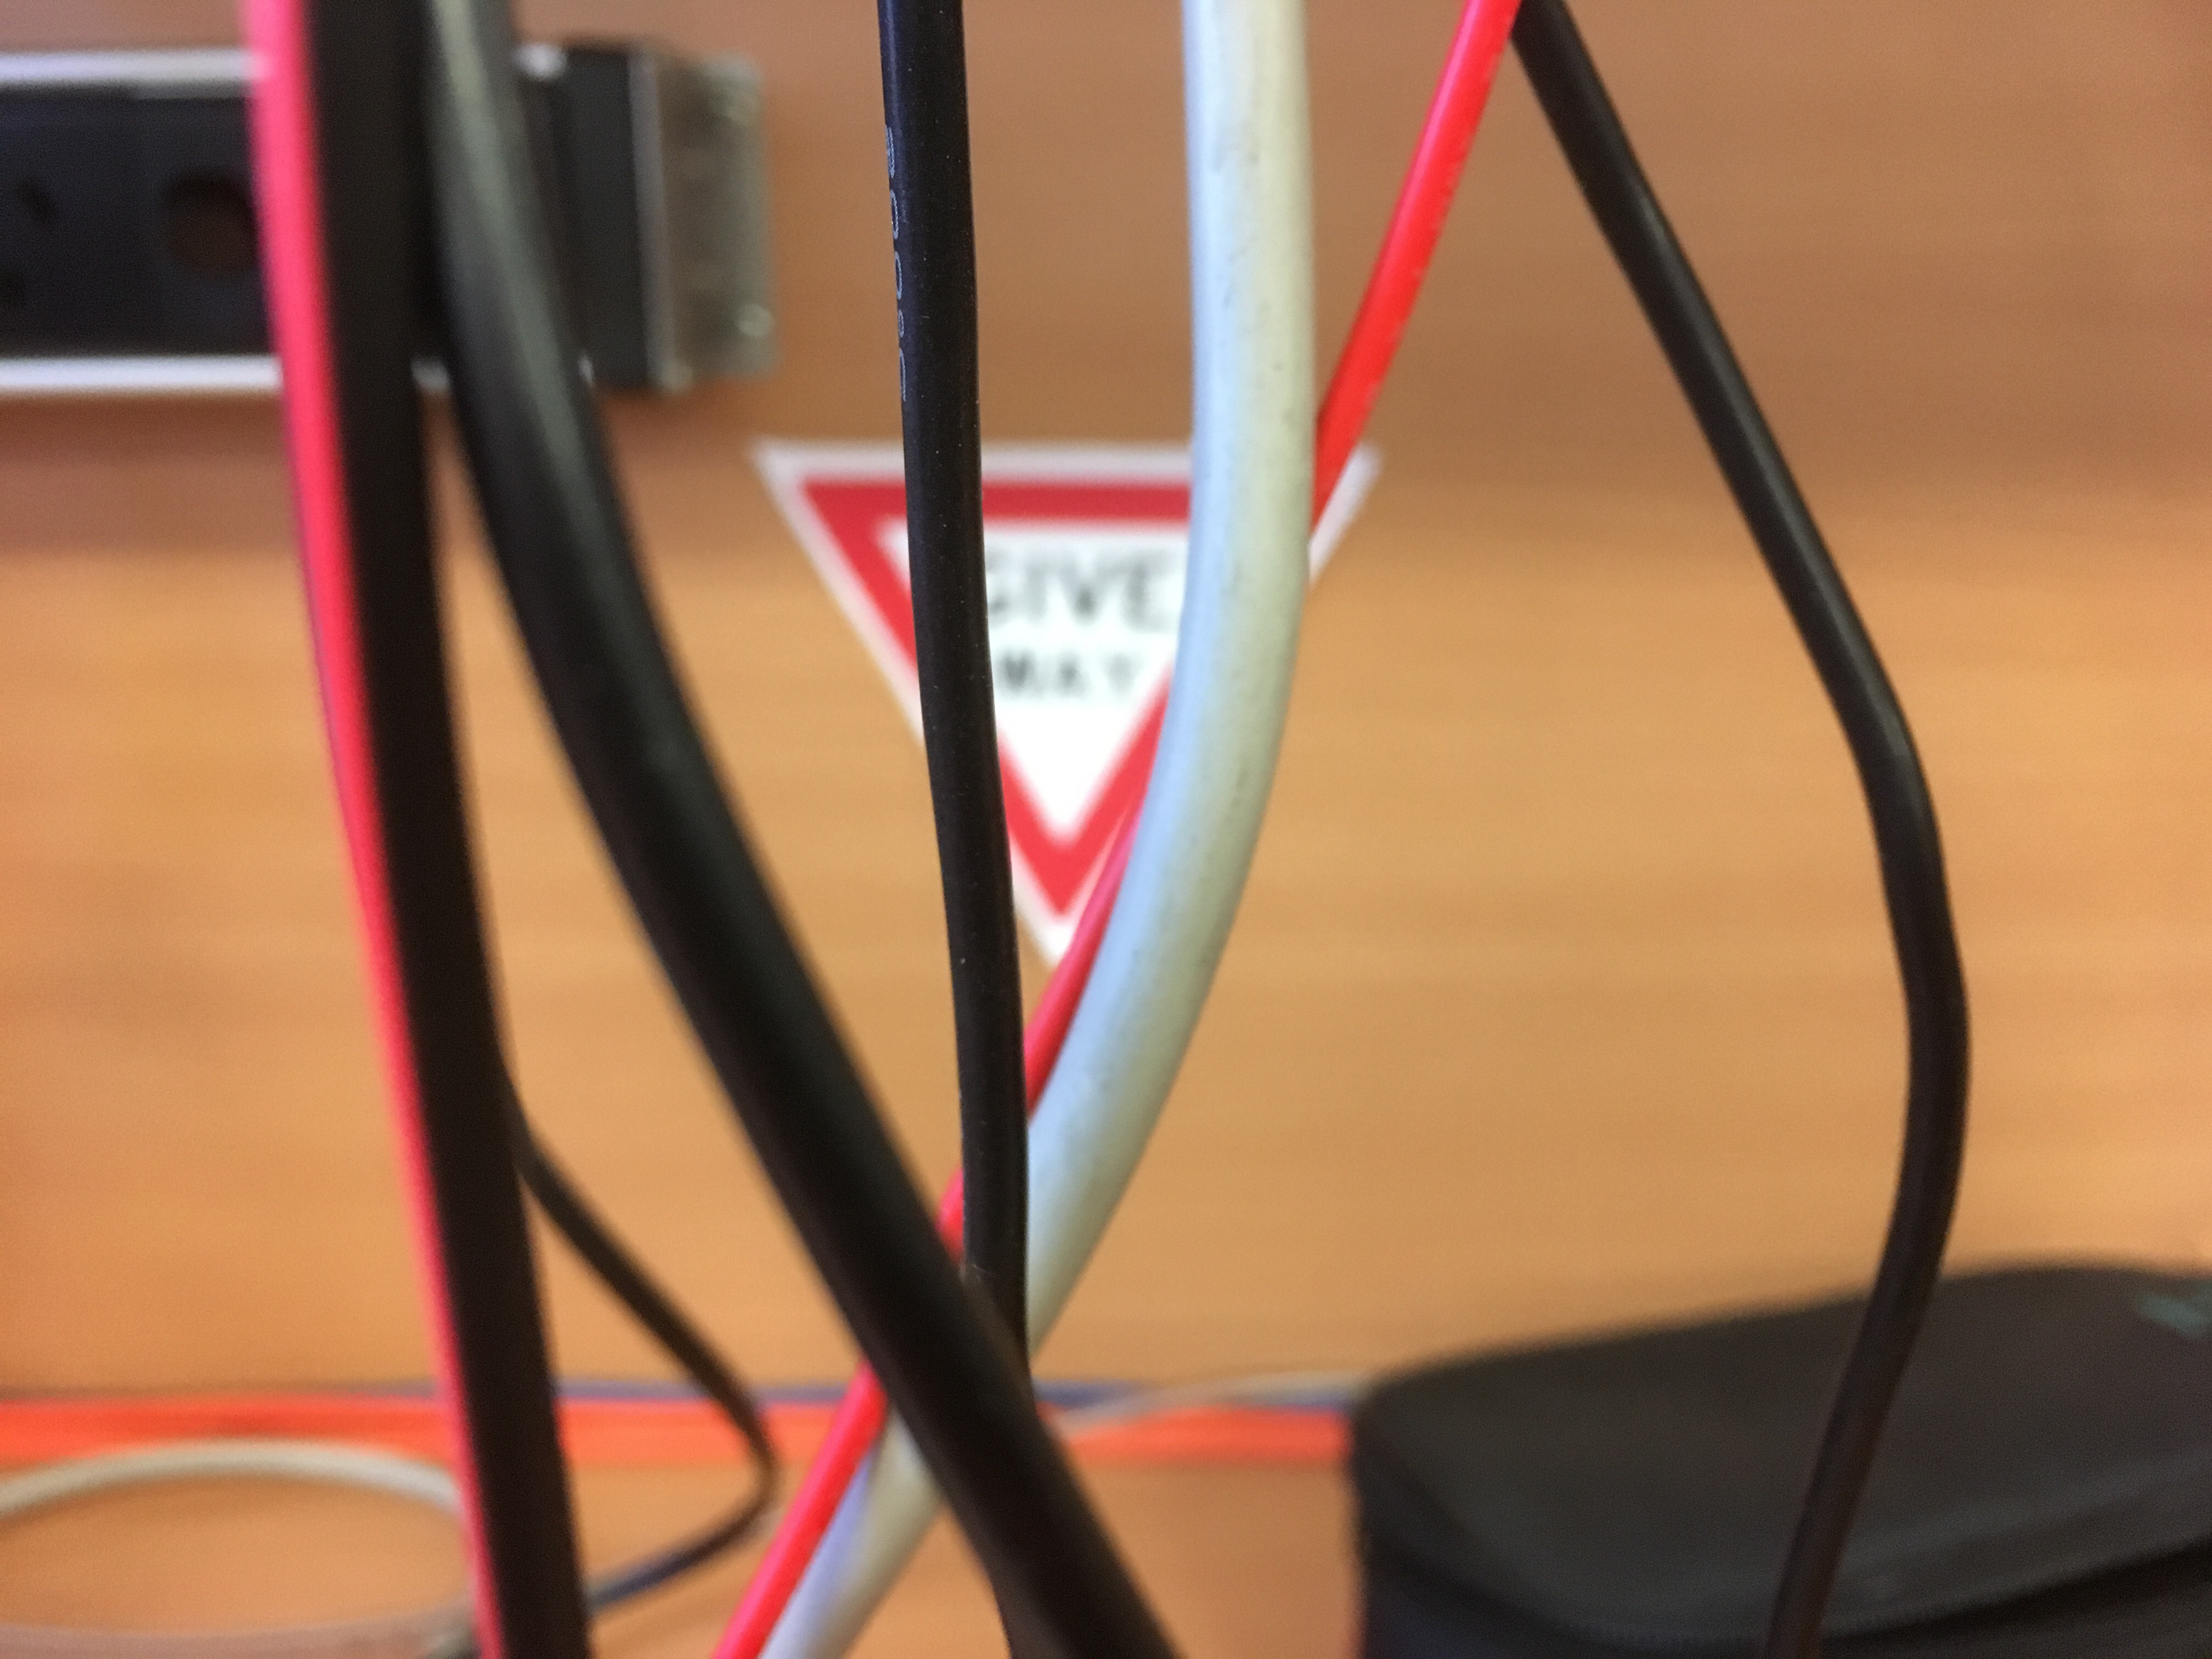giveway: (759, 437, 1374, 946)
